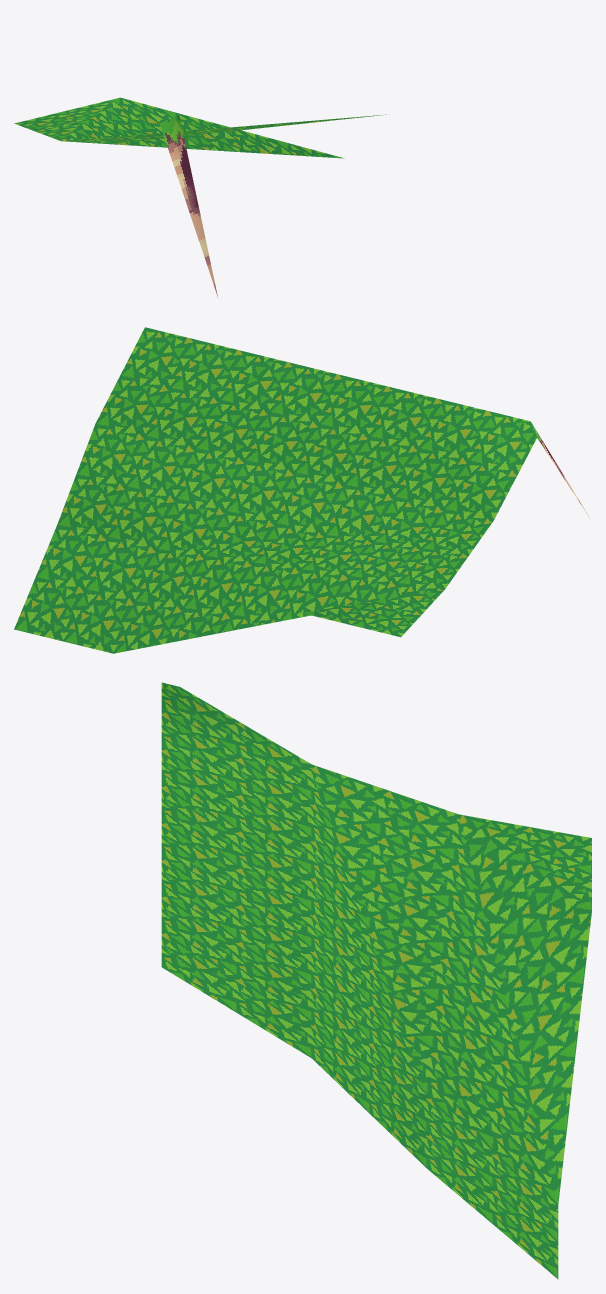
File: c_grd_e5_1.001.glb
3 views of the same model, one above another, from view 1: azimuth 30°, elevation 25°; view 2: azimuth 150°, elevation 25°; view 3: azimuth 270°, elevation 25° (orthographic). The views are drawn at different scales.
Parts seen in each view (by area): view 1: c_grd_e5_1.001; view 2: c_grd_e5_1.001; view 3: c_grd_e5_1.001.
Part boxes in pixels (<box>): c_grd_e5_1.001: <box>14,97,389,296</box>; c_grd_e5_1.001: <box>14,327,589,653</box>; c_grd_e5_1.001: <box>161,682,591,1279</box>.
Bounding box in the file's own units: 16 × 7.92 × 13.29.
2 materials, 2 textured.
